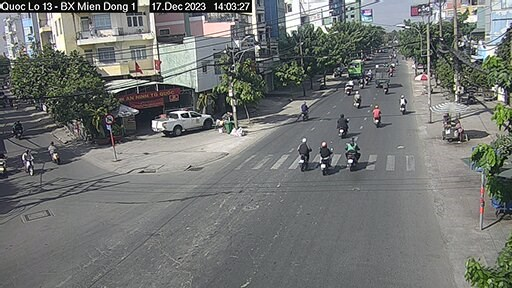bus: (346, 59, 366, 79)
car: (152, 110, 214, 136)
motorbike: (292, 134, 314, 173), (314, 139, 336, 176), (345, 137, 364, 172), (20, 147, 38, 177), (45, 141, 64, 165), (367, 103, 382, 127), (335, 114, 349, 139), (297, 101, 312, 122), (393, 96, 410, 114), (351, 89, 365, 110), (380, 79, 390, 95)
truck: (372, 65, 393, 86)
